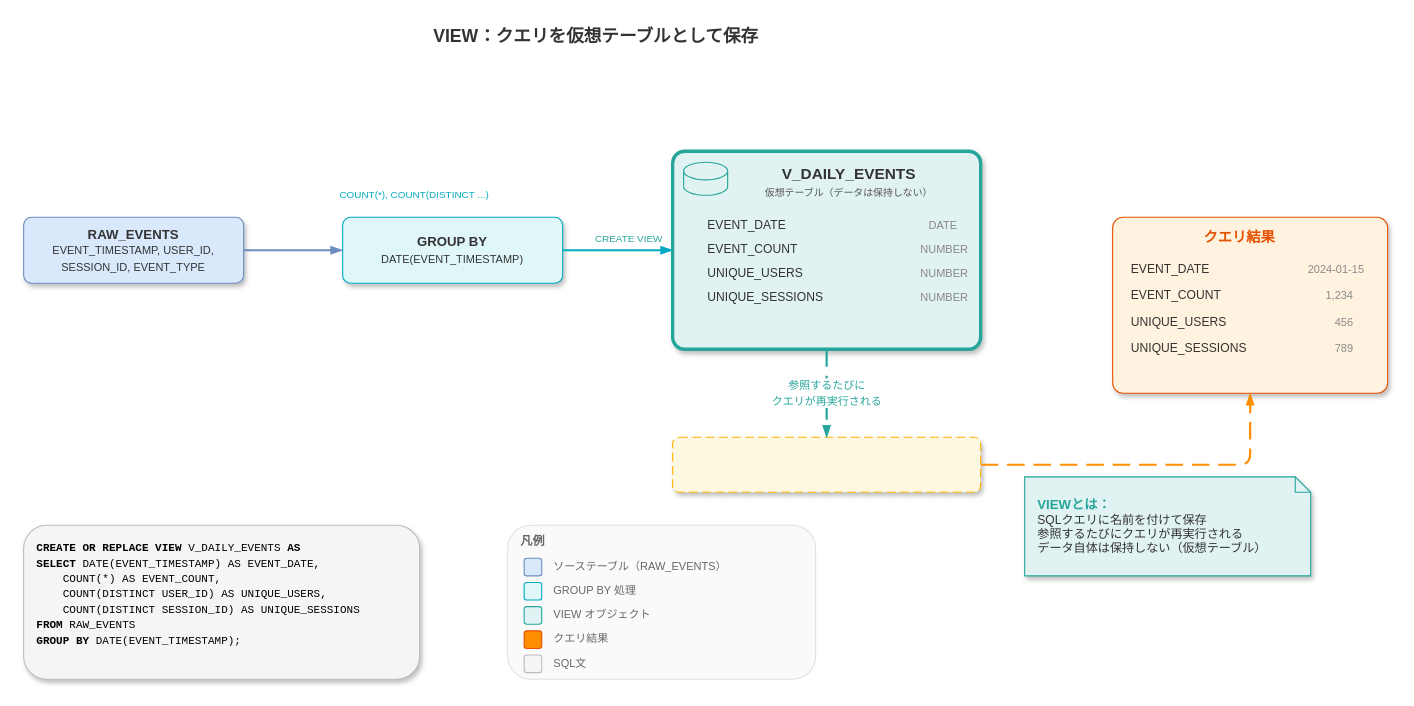
This 1414x706 diagram has some shape labels left out. Each missing label, with the centre of its shape:
"SELECT * FROM V_DAILY_EVENTS WHERE EVENT_DATE >= DATEADD(DAY, -7, CURRENT_DATE)" goes at pixel 827 466.
"VIEW" goes at pixel 705 178.
